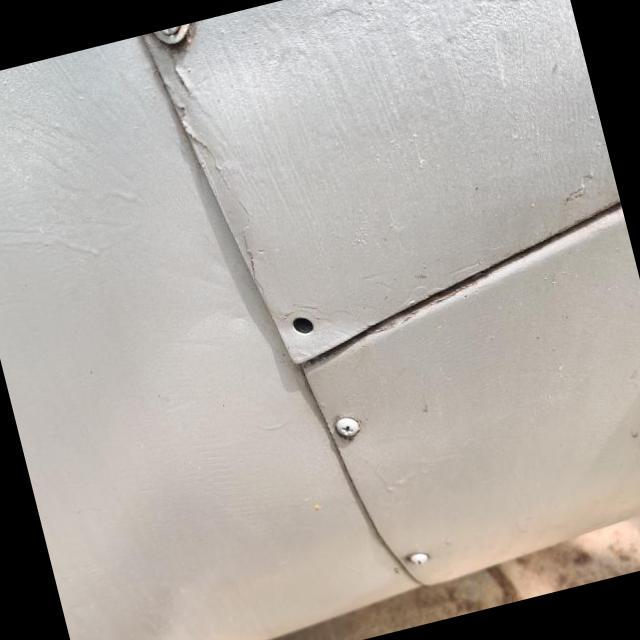Fastener Damage: (258, 282, 349, 373)
